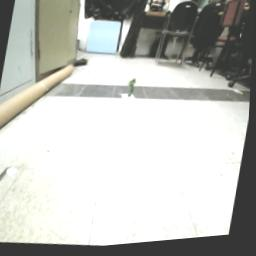herb: (126, 80, 139, 103)
